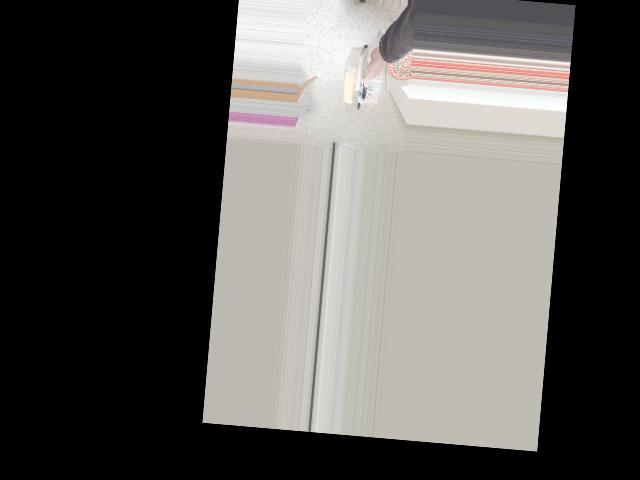cheese: (336, 39, 407, 112)
